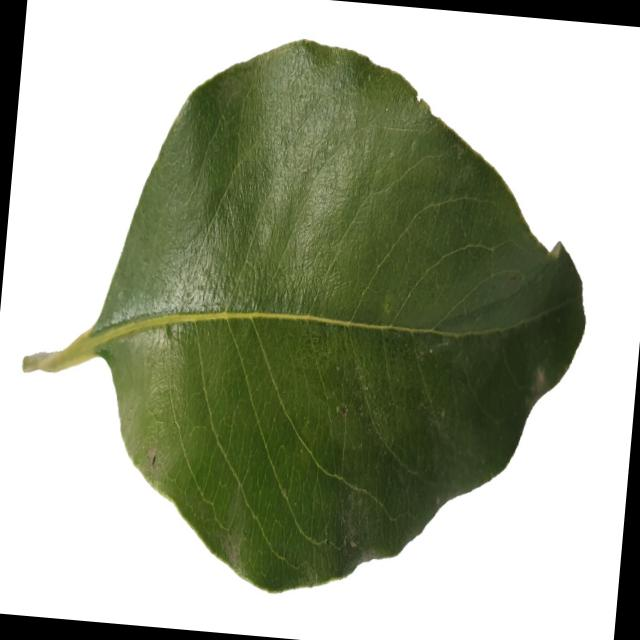Medicinal-Sandalwood: (4, 16, 606, 616)
